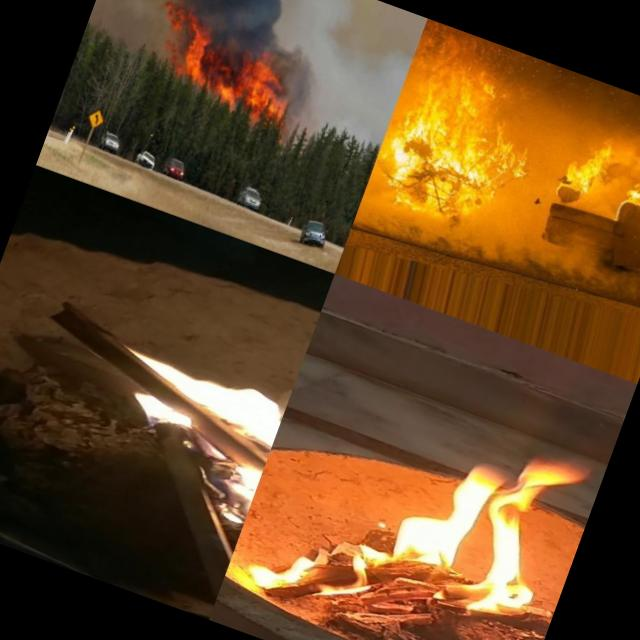fire: (251, 358, 606, 640), (79, 332, 292, 536), (370, 66, 548, 240), (148, 8, 308, 122), (556, 127, 622, 200), (621, 146, 640, 215)
smoke: (99, 0, 320, 59), (259, 34, 334, 112)
